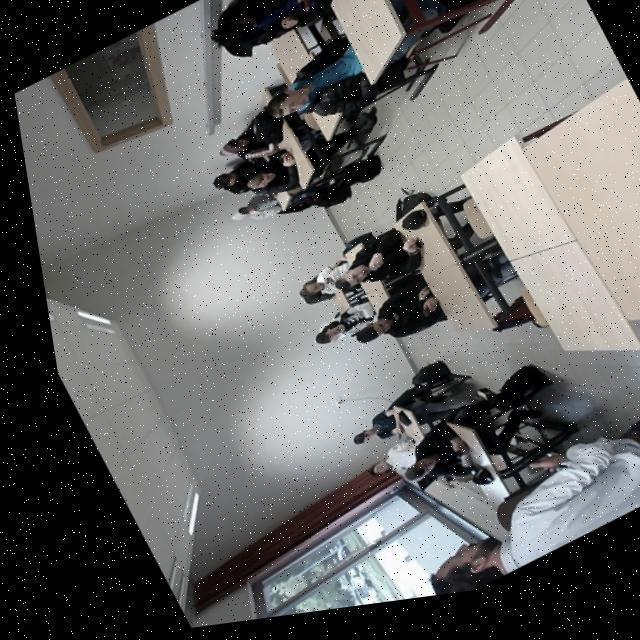phone_use: (315, 272, 444, 342), (211, 0, 329, 55), (385, 422, 469, 486), (227, 149, 299, 216), (213, 157, 264, 192), (231, 192, 280, 219)
